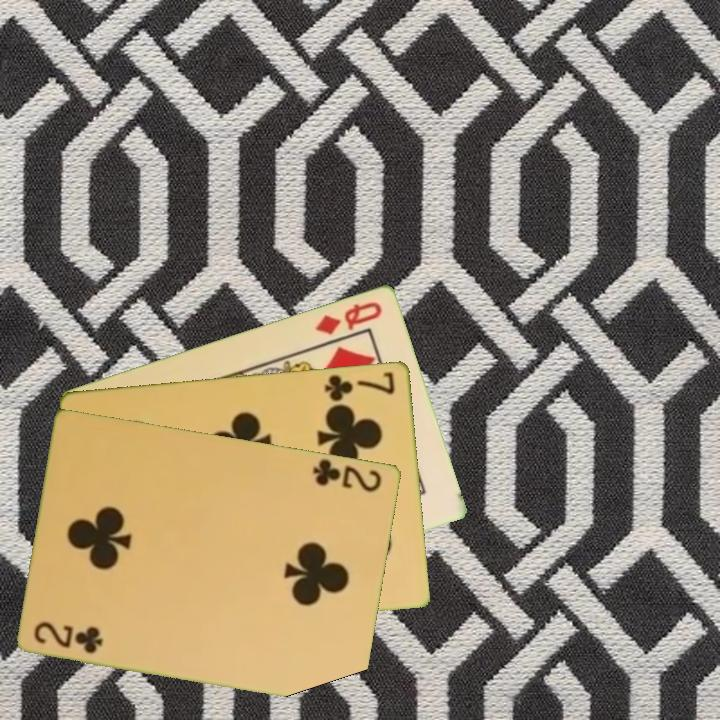2c: (310, 455, 385, 495), (31, 617, 106, 656)
7c: (321, 368, 398, 404)
Qd: (312, 297, 385, 338)
